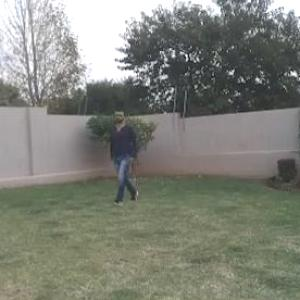follow: (108, 104, 141, 211)
